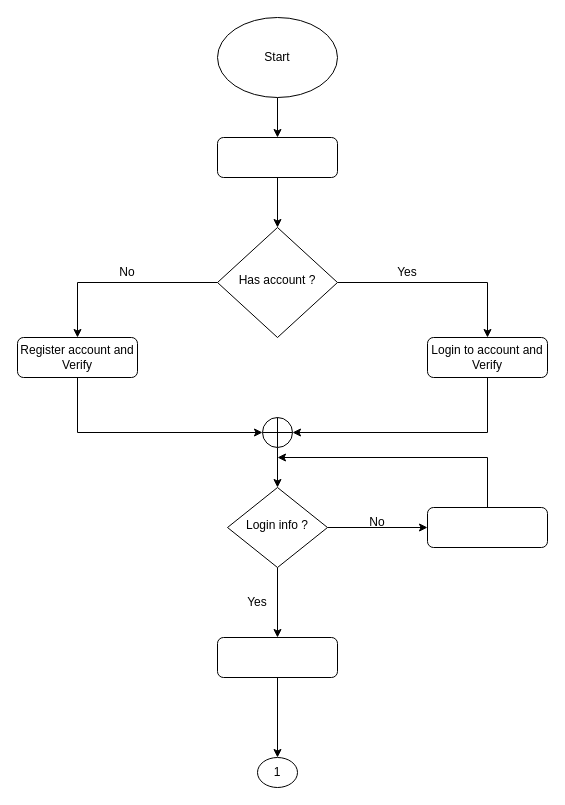
Some shapes in this 565 by 805 pixel diagram are drawn without their labels. Here are the shapes that lost their labels. From the top down, the box of each, then its label:
(216, 136, 338, 178): Login and Register
(426, 506, 548, 548): Invalid username or password
(216, 636, 338, 678): Login to Home Page
